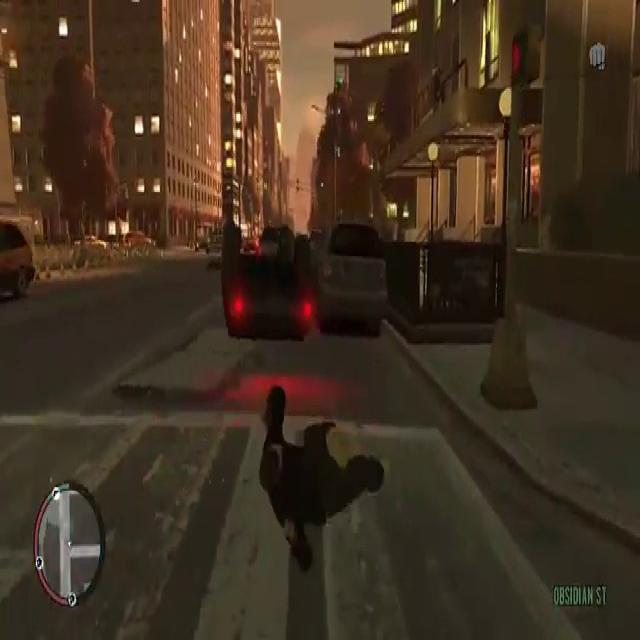severe: (221, 204, 324, 342)
